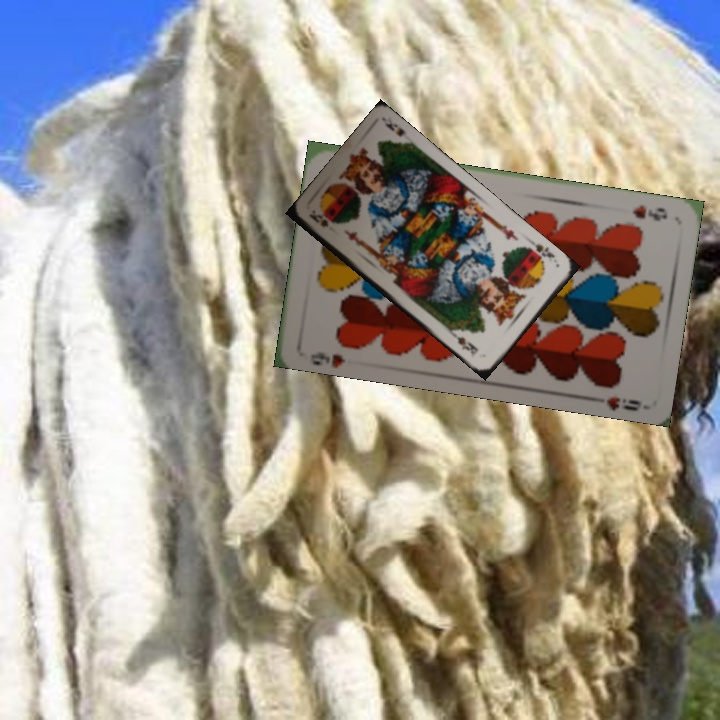H9: (629, 201, 670, 224), (306, 347, 347, 368)
SK: (522, 238, 558, 265), (305, 206, 331, 230)
